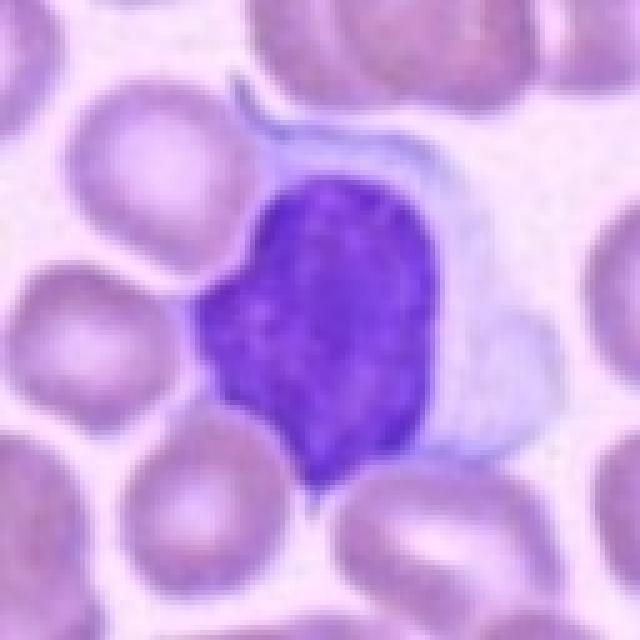lympho: (148, 64, 572, 513)
